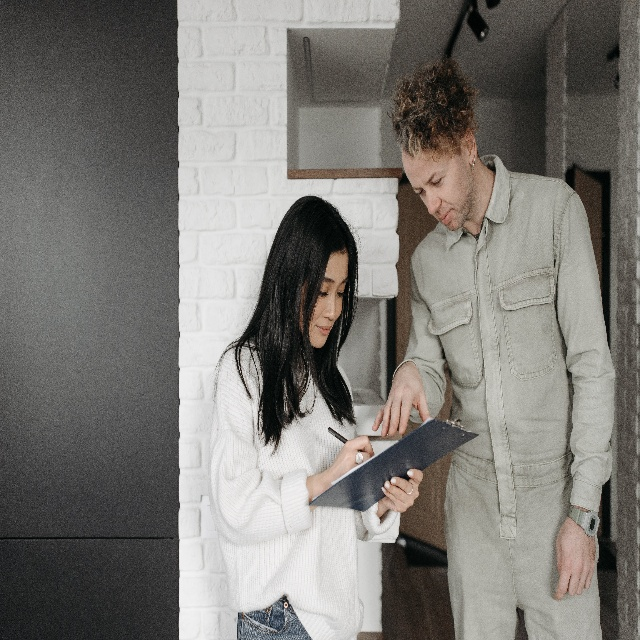Sin_guantes: (369, 366, 433, 434), (552, 521, 596, 601), (327, 431, 373, 479), (382, 462, 424, 513)
